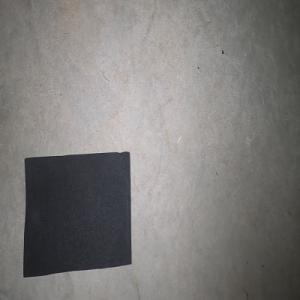PaintChip: (23, 151, 131, 277)
